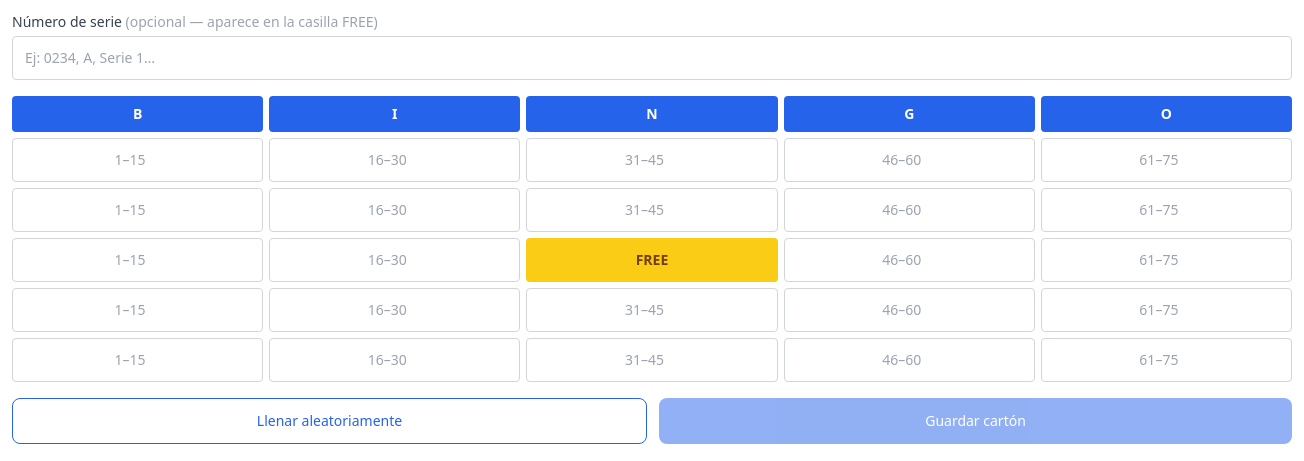
Test: FormularioCartonManual › botón Llenar aleatoriamente rellena los inputs y habilita Guardar
The image size is (1304, 461).
Click the button "Llenar aleatoriamente": {"x": 330, "y": 421} [12,398,647,444]
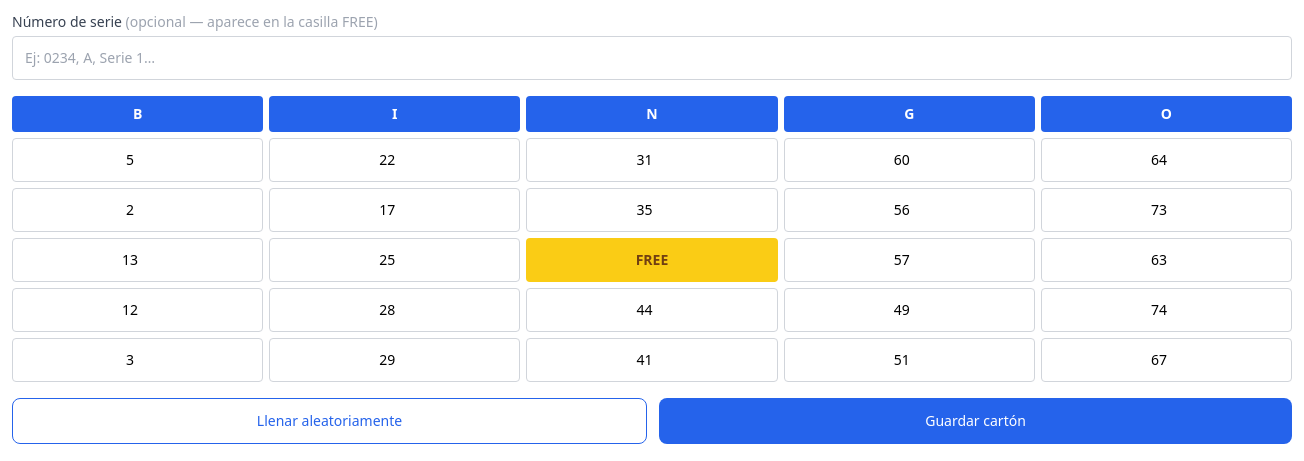
Expected: the button "Guardar cartón" is enabled, [659,398,1292,444]
